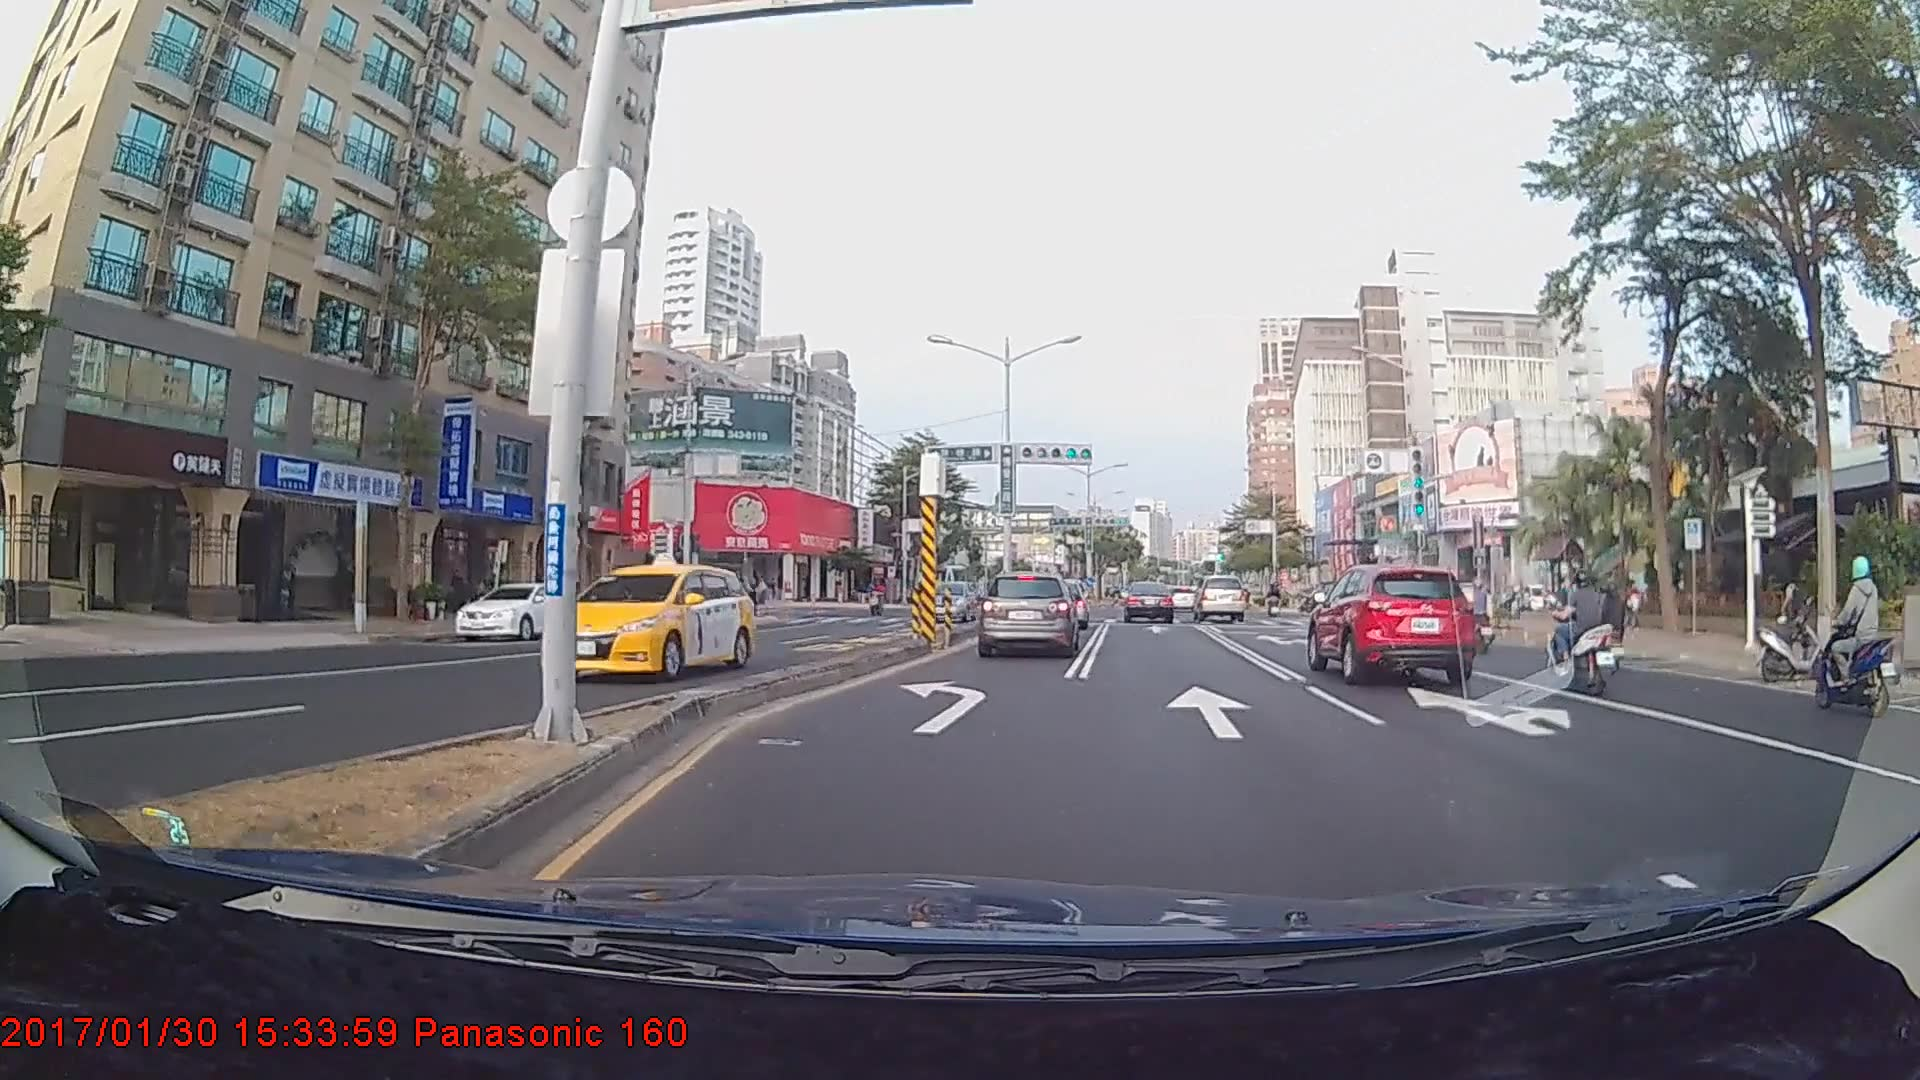rider: (1809, 555, 1897, 729), (1544, 567, 1626, 695)
vehicle: (540, 564, 755, 680), (1309, 558, 1479, 686), (978, 571, 1076, 657), (458, 579, 587, 642), (1193, 575, 1246, 623), (918, 579, 977, 620), (1121, 582, 1173, 624)
